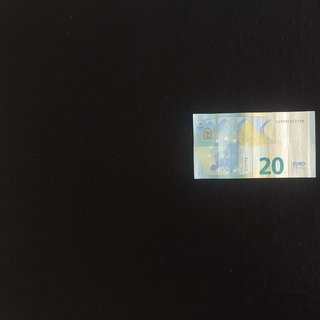20EUROBack: (192, 110, 316, 179)
